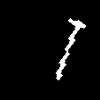half_double_crochet: (56, 18, 85, 79)
